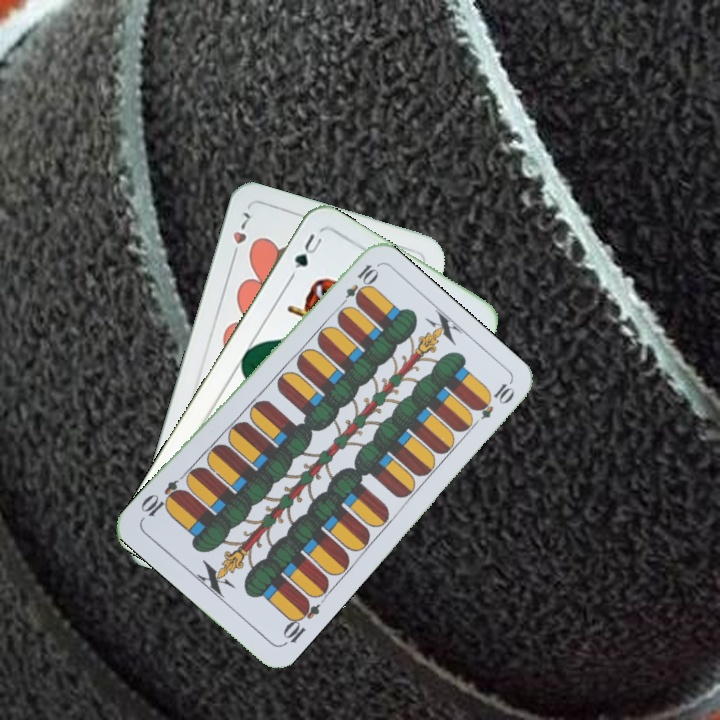E10: (278, 594, 323, 649), (334, 260, 380, 312)
GU: (286, 229, 325, 280)
H7: (227, 208, 253, 263)
